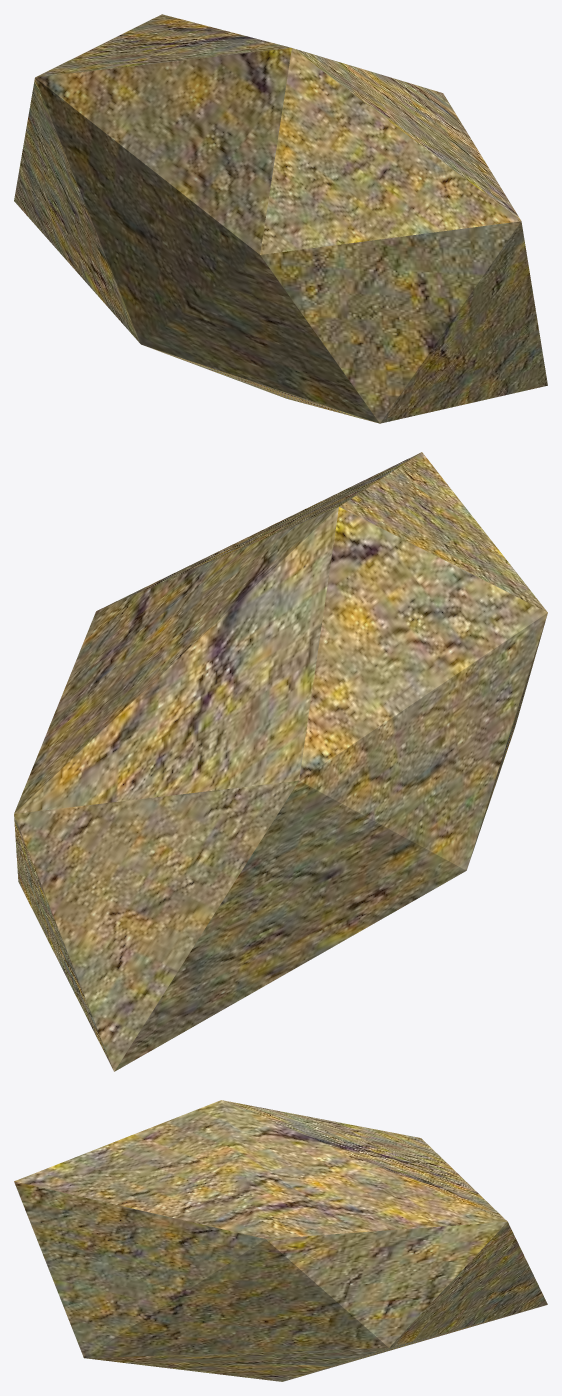
The model's file is rock2.fbx.
The picture shows the model from 3 angles, top to bottom: view 1: azimuth 30°, elevation 25°; view 2: azimuth 150°, elevation 25°; view 3: azimuth 270°, elevation 25°; orthographic projection. The views are drawn at different scales.
Visible parts, largest first — view 1: Rock2; view 2: Rock2; view 3: Rock2.
Part boxes in pixels (x1,y1,x2,y2): Rock2: (14,14,547,423); Rock2: (14,452,547,1071); Rock2: (14,1100,547,1381).
Bounding box in the file's own units: 10.56 × 12.55 × 22.61.
